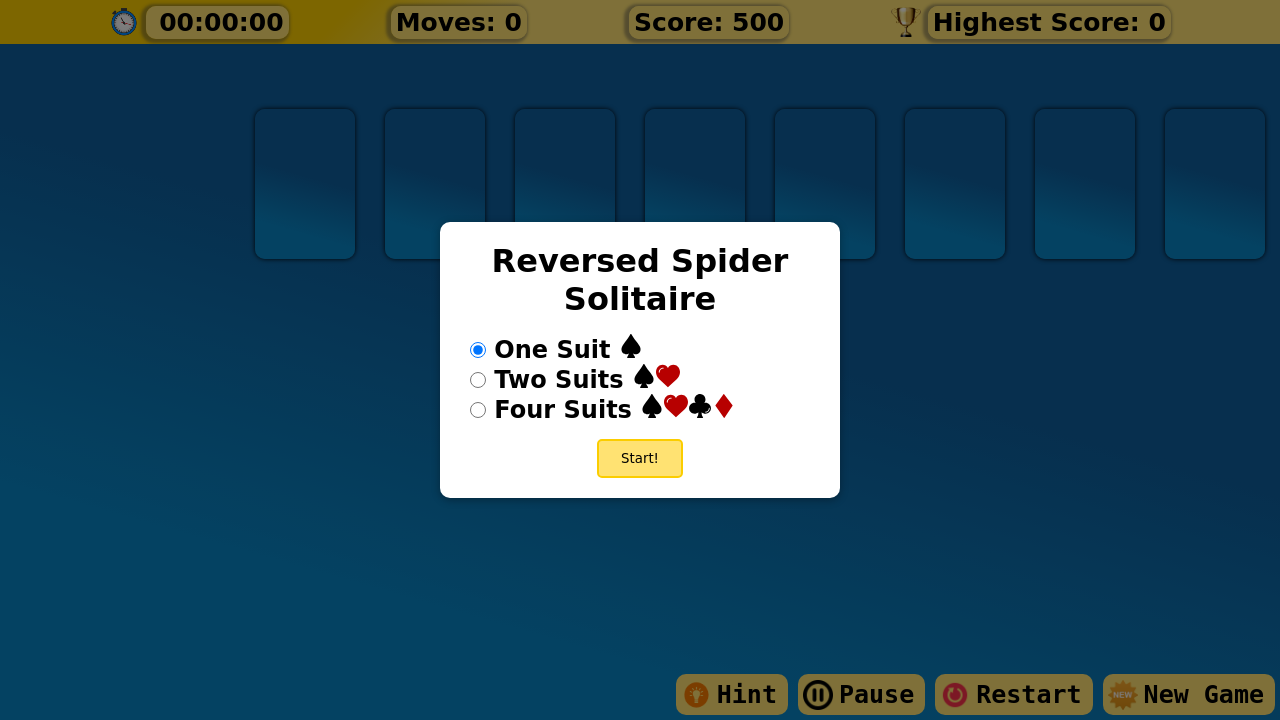
actions-tests › should restart the game
Click the button with class "button--newGame".
click(640, 459)  # box 597,439 -> 683,478
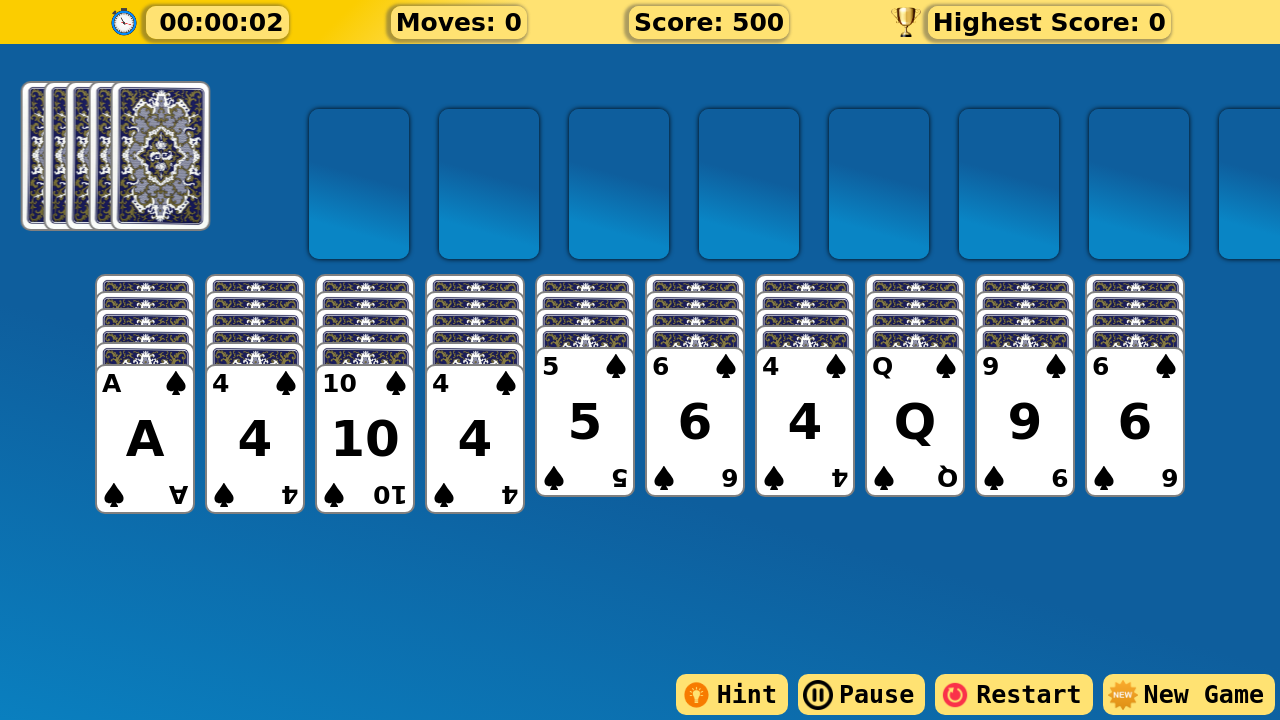
Now the text "00:00:02" is shown, box 146,6 -> 289,38
Click the element with class "restart".
click(1014, 695)  # box 935,674 -> 1092,715
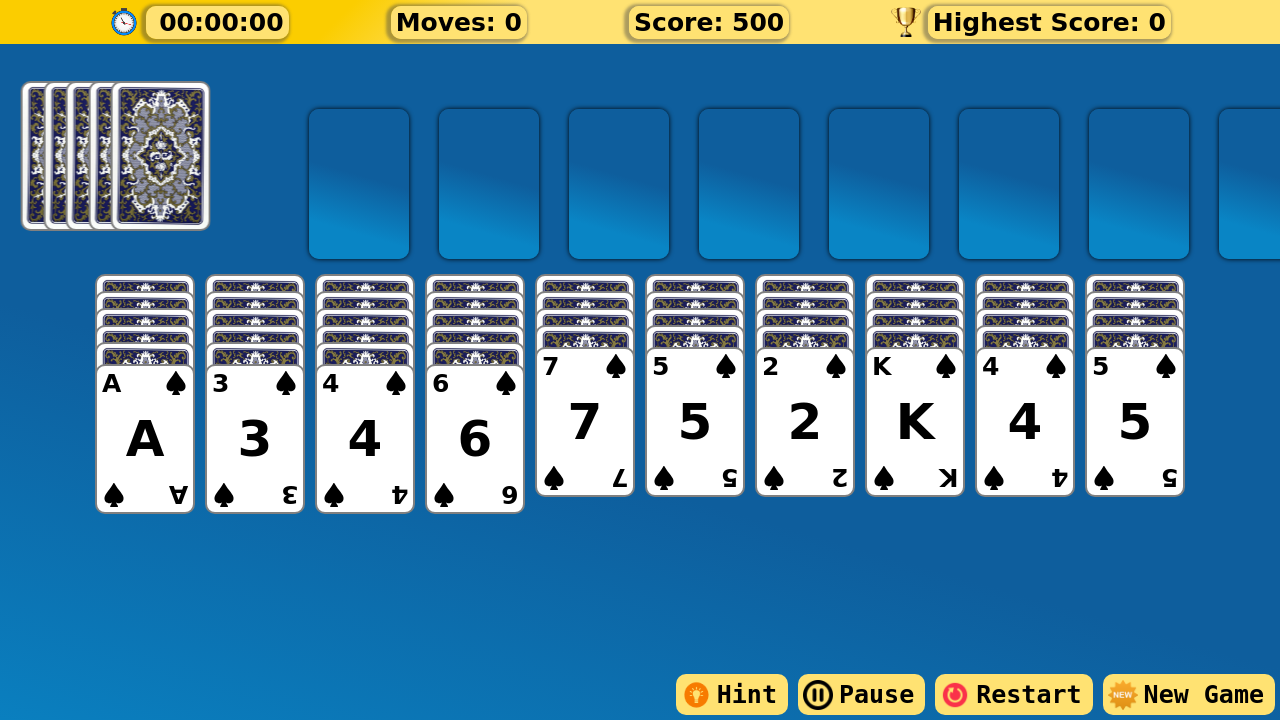
Now the text "00:00:00" is shown, box 146,6 -> 289,38
